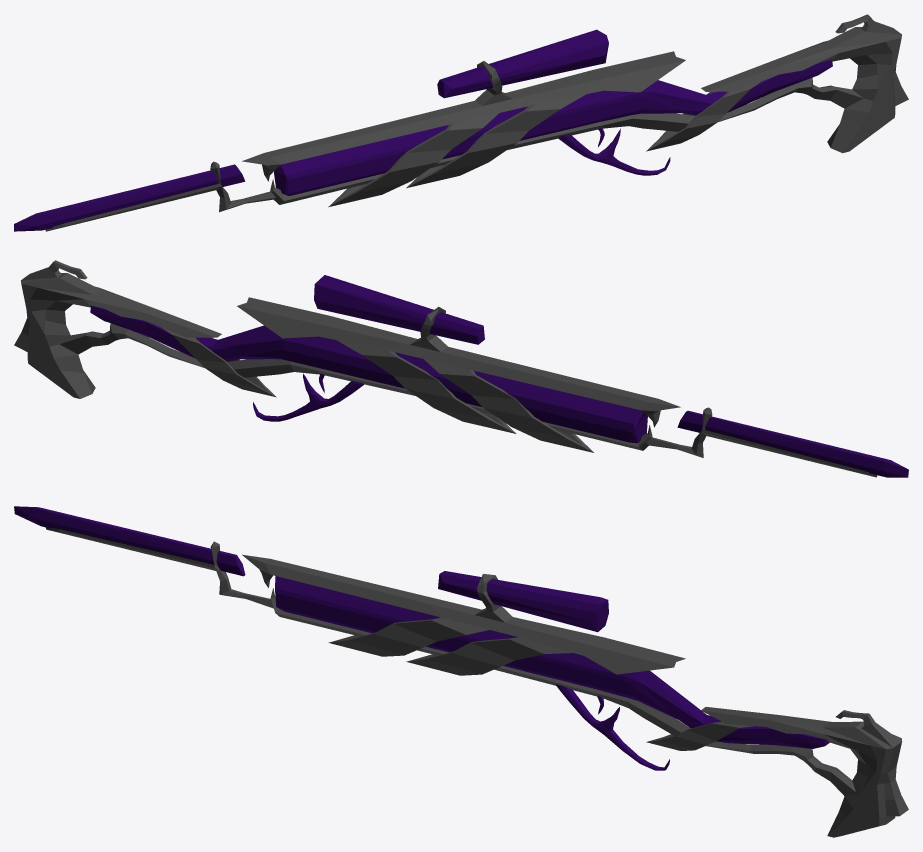
The model's file is dakness sniper.fbx.
3 renders of one model, top to bottom at view 1: azimuth 30°, elevation 25°; view 2: azimuth 150°, elevation 25°; view 3: azimuth 330°, elevation 25°, orthographic.
Parts seen in each view (by area): view 1: gun, darkness crystal, lever; view 2: gun, darkness crystal, lever; view 3: gun, darkness crystal, lever.
Boxes of the visible parts, x1,y1,x2,y2 form: gun: (45,14,908,231); darkness crystal: (14,29,832,231); lever: (558,128,670,175); gun: (14,260,877,477); darkness crystal: (90,275,908,477); lever: (253,374,363,421); gun: (45,527,908,837); darkness crystal: (14,506,829,748); lever: (555,684,669,770).
Size of the model in its own units: 765 by 143 by 35.56.
